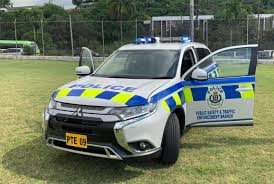special: (42, 35, 258, 165)
